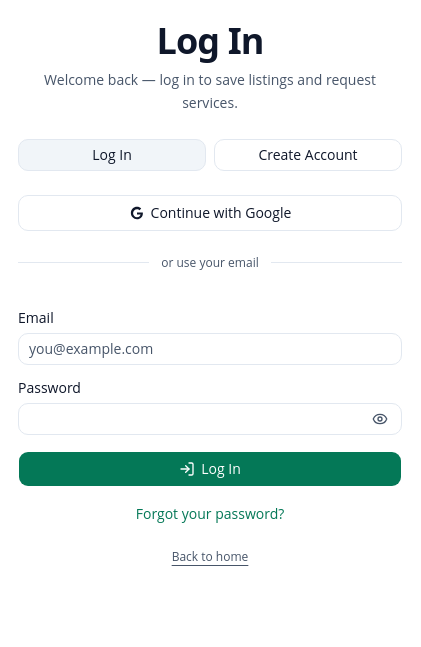
it: LoginRegisterPage — email + password login › handles rate_limited calmly
Expected: the heading "Log In" is shown, x1=156 y1=16 x2=264 y2=65
In the field labelled "Email": (210, 348) x1=18 y1=332 x2=402 y2=364, type "a@b.co"
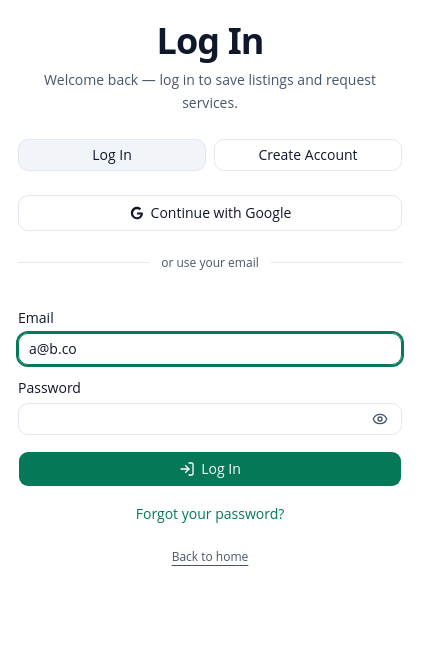
In the password field labelled "Password": (210, 418) x1=18 y1=402 x2=402 y2=434, type "some password"
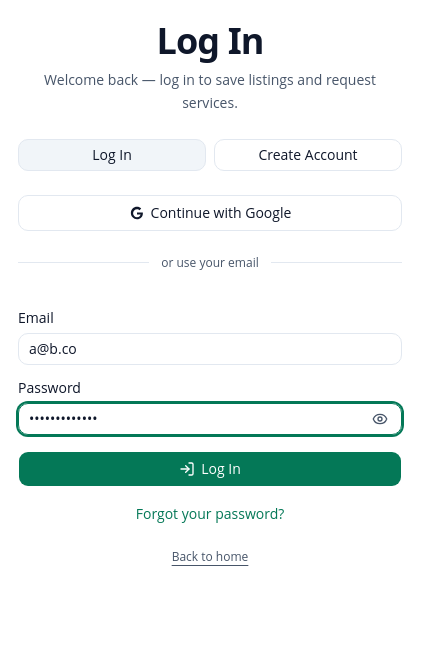
Click the button "Log In": (210, 468) x1=18 y1=450 x2=402 y2=486
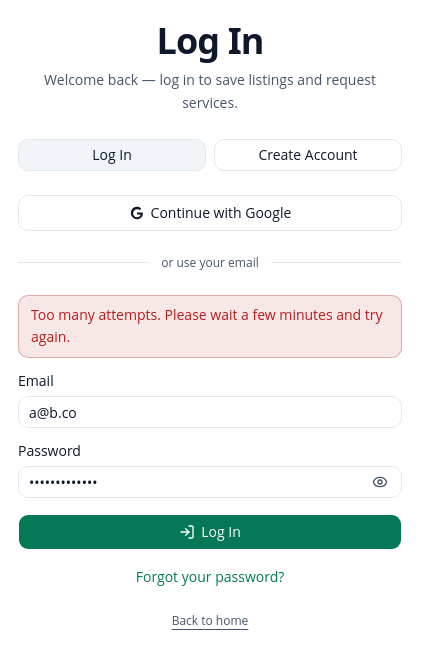
Now the text "Too many attempts. Please wait a few minutes and try again." is shown, box x1=18 y1=294 x2=402 y2=358
